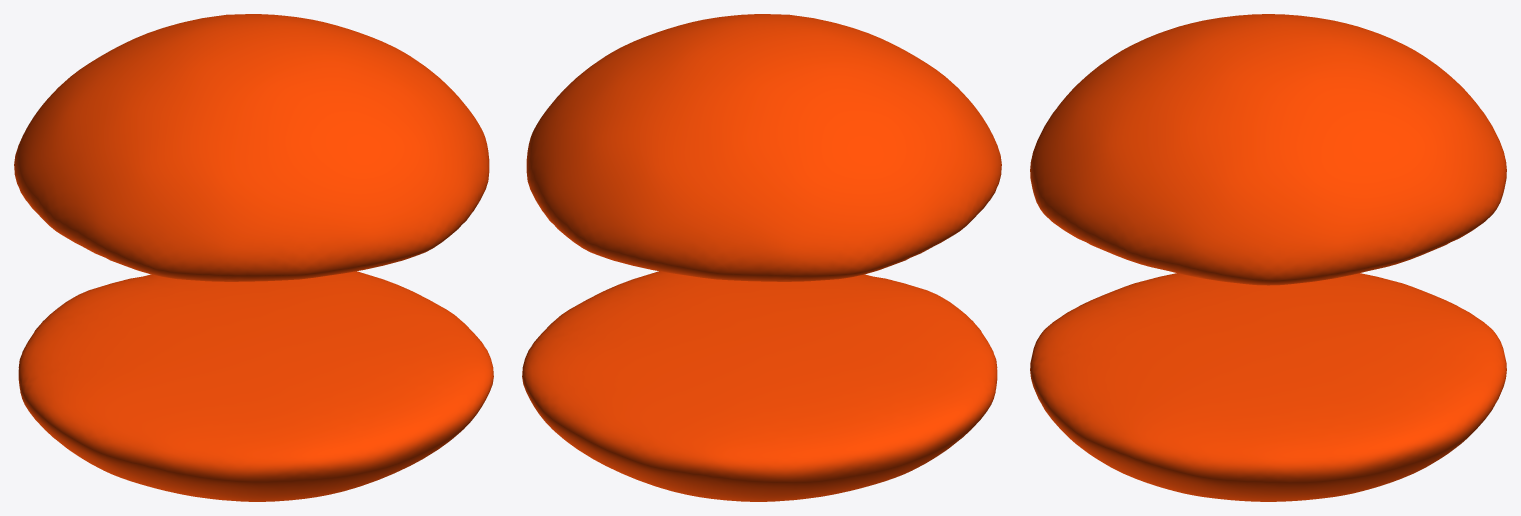
The model's file is bun.obj.
3 views of the same model, side by side, from view 1: azimuth 30°, elevation 25°; view 2: azimuth 150°, elevation 25°; view 3: azimuth 270°, elevation 25° (orthographic).
Parts seen in each view (by area): view 1: Top, Bottom; view 2: Top, Bottom; view 3: Top, Bottom.
Part boxes in pixels (left/top/right/bottom): Top: left=14, top=14, right=489, bottom=281; Bottom: left=18, top=271, right=493, bottom=501; Top: left=526, top=14, right=1001, bottom=281; Bottom: left=522, top=271, right=997, bottom=501; Top: left=1030, top=14, right=1506, bottom=285; Bottom: left=1030, top=273, right=1506, bottom=501.
Bounding box in the file's own units: 6.5 × 6.13 × 6.44.
